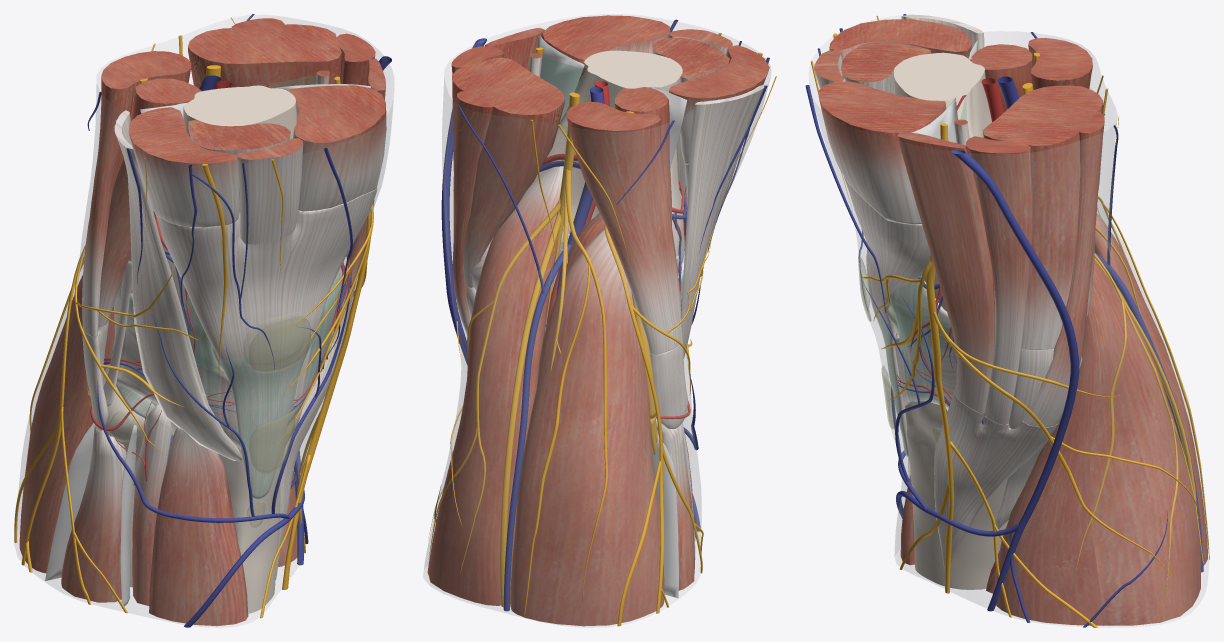
Rendered from anatomy.glb.
3 views of the same model, side by side, from view 1: azimuth 30°, elevation 25°; view 2: azimuth 150°, elevation 25°; view 3: azimuth 270°, elevation 25° (orthographic). The views are drawn at different scales.
Parts seen in each view (by area): view 1: Crural fascia.r, Fascia lata.r, Quadriceps common tendon + patellar ligament.r, Tibialis anterior muscle.r, Iliotibial tract.r, Vastus medialis muscle.r, Lateral head of gastrocnemius.r, Vastus lateralis muscle.r, Semimembranosus muscle.r, Long head of biceps femoris.r, Fibularis longus muscle.r, Articular capsule of knee joint.r (+29 smaller); view 2: Crural fascia.r, Lateral head of gastrocnemius.r, Fascia lata.r, Medial head of gastrocnemius.r, Long head of biceps femoris.r, Semimembranosus muscle.r, Iliotibial tract.r, Femur.r, Semitendinosus muscle.r, Vastus medialis muscle.r, Lateral sural cutaneous nerve.r, Vastus lateralis muscle.r (+25 smaller); view 3: Crural fascia.r, Fascia lata.r, Medial head of gastrocnemius.r, Sartorius muscle.r, Semimembranosus muscle.r, Gracilis muscle.r, Vastus medialis muscle.r, Pes anserinus common tendon.r, Tibia.r, Semitendinosus muscle.r, Saphenous nerve (Medial crural cutaneous branches).r, Quadriceps common tendon + patellar ligament.r (+23 smaller).
Boxes of the visible parts, x1=… form: Crural fascia.r: x1=14, y1=231, x2=338, y2=627; Fascia lata.r: x1=80, y1=15, x2=393, y2=406; Quadriceps common tendon + patellar ligament.r: x1=155, y1=188, x2=377, y2=498; Tibialis anterior muscle.r: x1=149, y1=427, x2=248, y2=626; Iliotibial tract.r: x1=114, y1=110, x2=242, y2=461; Vastus medialis muscle.r: x1=287, y1=85, x2=386, y2=211; Lateral head of gastrocnemius.r: x1=19, y1=275, x2=114, y2=573; Vastus lateralis muscle.r: x1=128, y1=107, x2=239, y2=227; Semimembranosus muscle.r: x1=188, y1=24, x2=341, y2=88; Long head of biceps femoris.r: x1=82, y1=51, x2=191, y2=337; Fibularis longus muscle.r: x1=61, y1=425, x2=126, y2=602; Articular capsule of knee joint.r: x1=103, y1=256, x2=347, y2=448; Crural fascia.r: x1=423, y1=227, x2=701, y2=627; Lateral head of gastrocnemius.r: x1=510, y1=228, x2=664, y2=626; Fascia lata.r: x1=442, y1=14, x2=770, y2=308; Medial head of gastrocnemius.r: x1=427, y1=166, x2=563, y2=605; Long head of biceps femoris.r: x1=566, y1=102, x2=682, y2=354; Semimembranosus muscle.r: x1=452, y1=57, x2=564, y2=287; Iliotibial tract.r: x1=681, y1=84, x2=764, y2=358; Femur.r: x1=536, y1=50, x2=684, y2=271; Semitendinosus muscle.r: x1=452, y1=91, x2=495, y2=339; Vastus medialis muscle.r: x1=541, y1=15, x2=670, y2=107; Lateral sural cutaneous nerve.r: x1=604, y1=189, x2=729, y2=626; Vastus lateralis muscle.r: x1=668, y1=45, x2=769, y2=164; Crural fascia.r: x1=879, y1=200, x2=1208, y2=627; Fascia lata.r: x1=809, y1=15, x2=1117, y2=394; Medial head of gastrocnemius.r: x1=994, y1=260, x2=1200, y2=625; Sartorius muscle.r: x1=897, y1=132, x2=994, y2=413; Semimembranosus muscle.r: x1=982, y1=85, x2=1103, y2=349; Gracilis muscle.r: x1=966, y1=136, x2=1033, y2=424; Vastus medialis muscle.r: x1=818, y1=81, x2=946, y2=224; Pes anserinus common tendon.r: x1=934, y1=390, x2=1058, y2=570; Tibia.r: x1=905, y1=401, x2=1008, y2=589; Semitendinosus muscle.r: x1=1023, y1=111, x2=1104, y2=427; Saphenous nerve (Medial crural cutaneous branches).r: x1=899, y1=255, x2=1198, y2=627; Quadriceps common tendon + patellar ligament.r: x1=844, y1=177, x2=930, y2=456.
Size of the model in its own units: 0.1199 by 0.1943 by 0.1446.
Materials: 21 (6 with a texture image).
